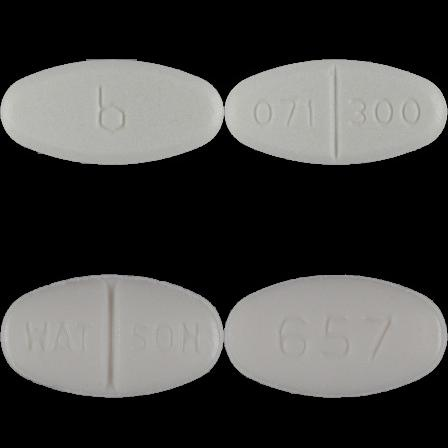55695-033: (0, 0, 224, 224)
